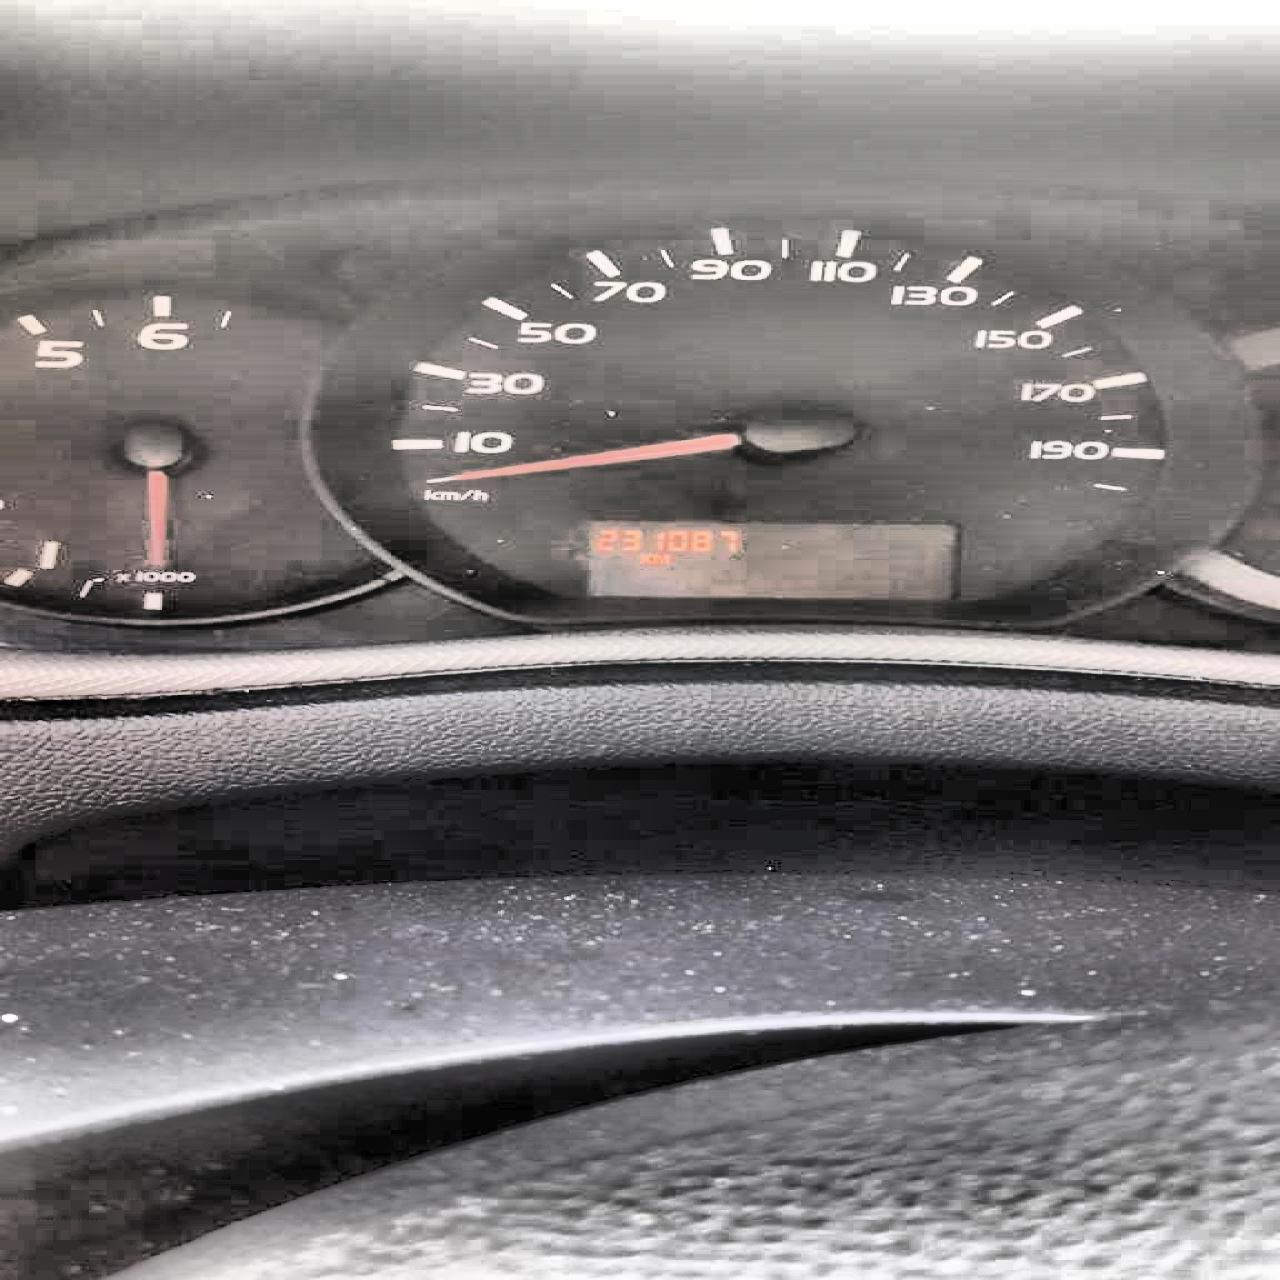0: (665, 530, 687, 550)
1: (652, 530, 665, 550)
2: (593, 529, 615, 550)
3: (618, 529, 640, 550)
7: (715, 529, 737, 551)
8: (689, 530, 712, 551)
X: (651, 552, 669, 564), (635, 551, 652, 564)
odometer: (576, 515, 968, 605)
